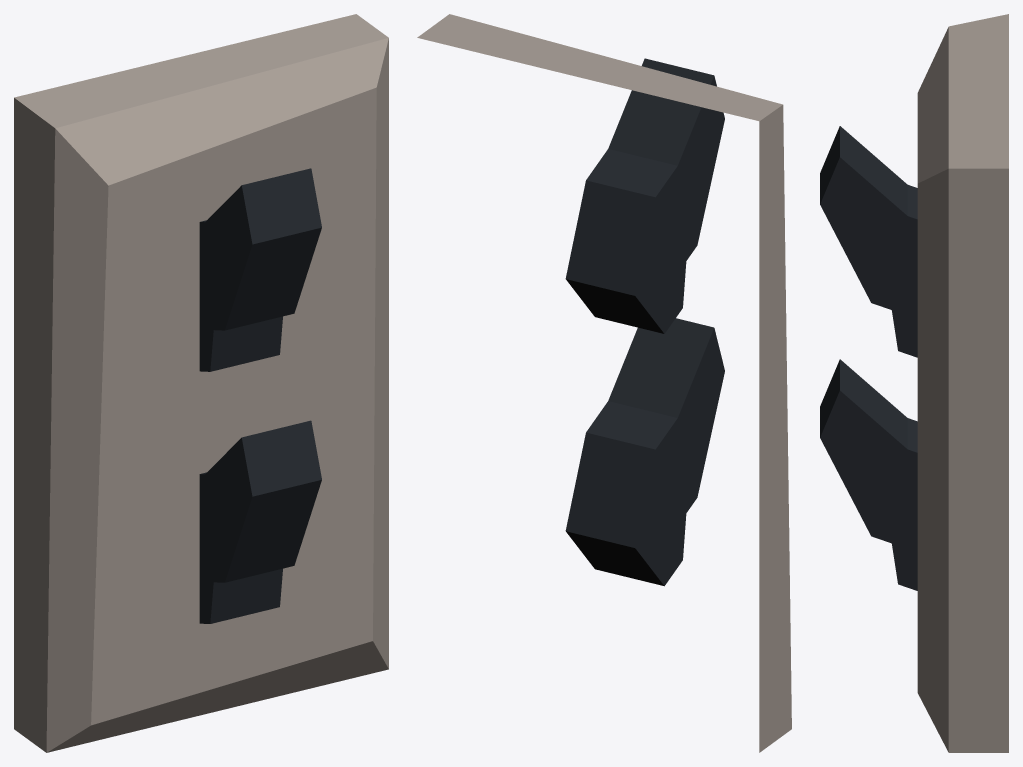
The model's file is SM_Switch_A.gltf.
3 renders of one model, left to right at view 1: azimuth 30°, elevation 25°; view 2: azimuth 150°, elevation 25°; view 3: azimuth 270°, elevation 25°, orthographic. The views are drawn at different scales.
Parts seen in each view (by area): view 1: SM_Switch_A; view 2: SM_Switch_A; view 3: SM_Switch_A.
Part boxes in pixels (x1,y1,x2,y2): SM_Switch_A: (14,14,388,752); SM_Switch_A: (417,14,791,752); SM_Switch_A: (820,14,1008,752).
Bounding box in the file's own units: 0.127 × 0.2238 × 0.0656.
1 material, 1 textured.
